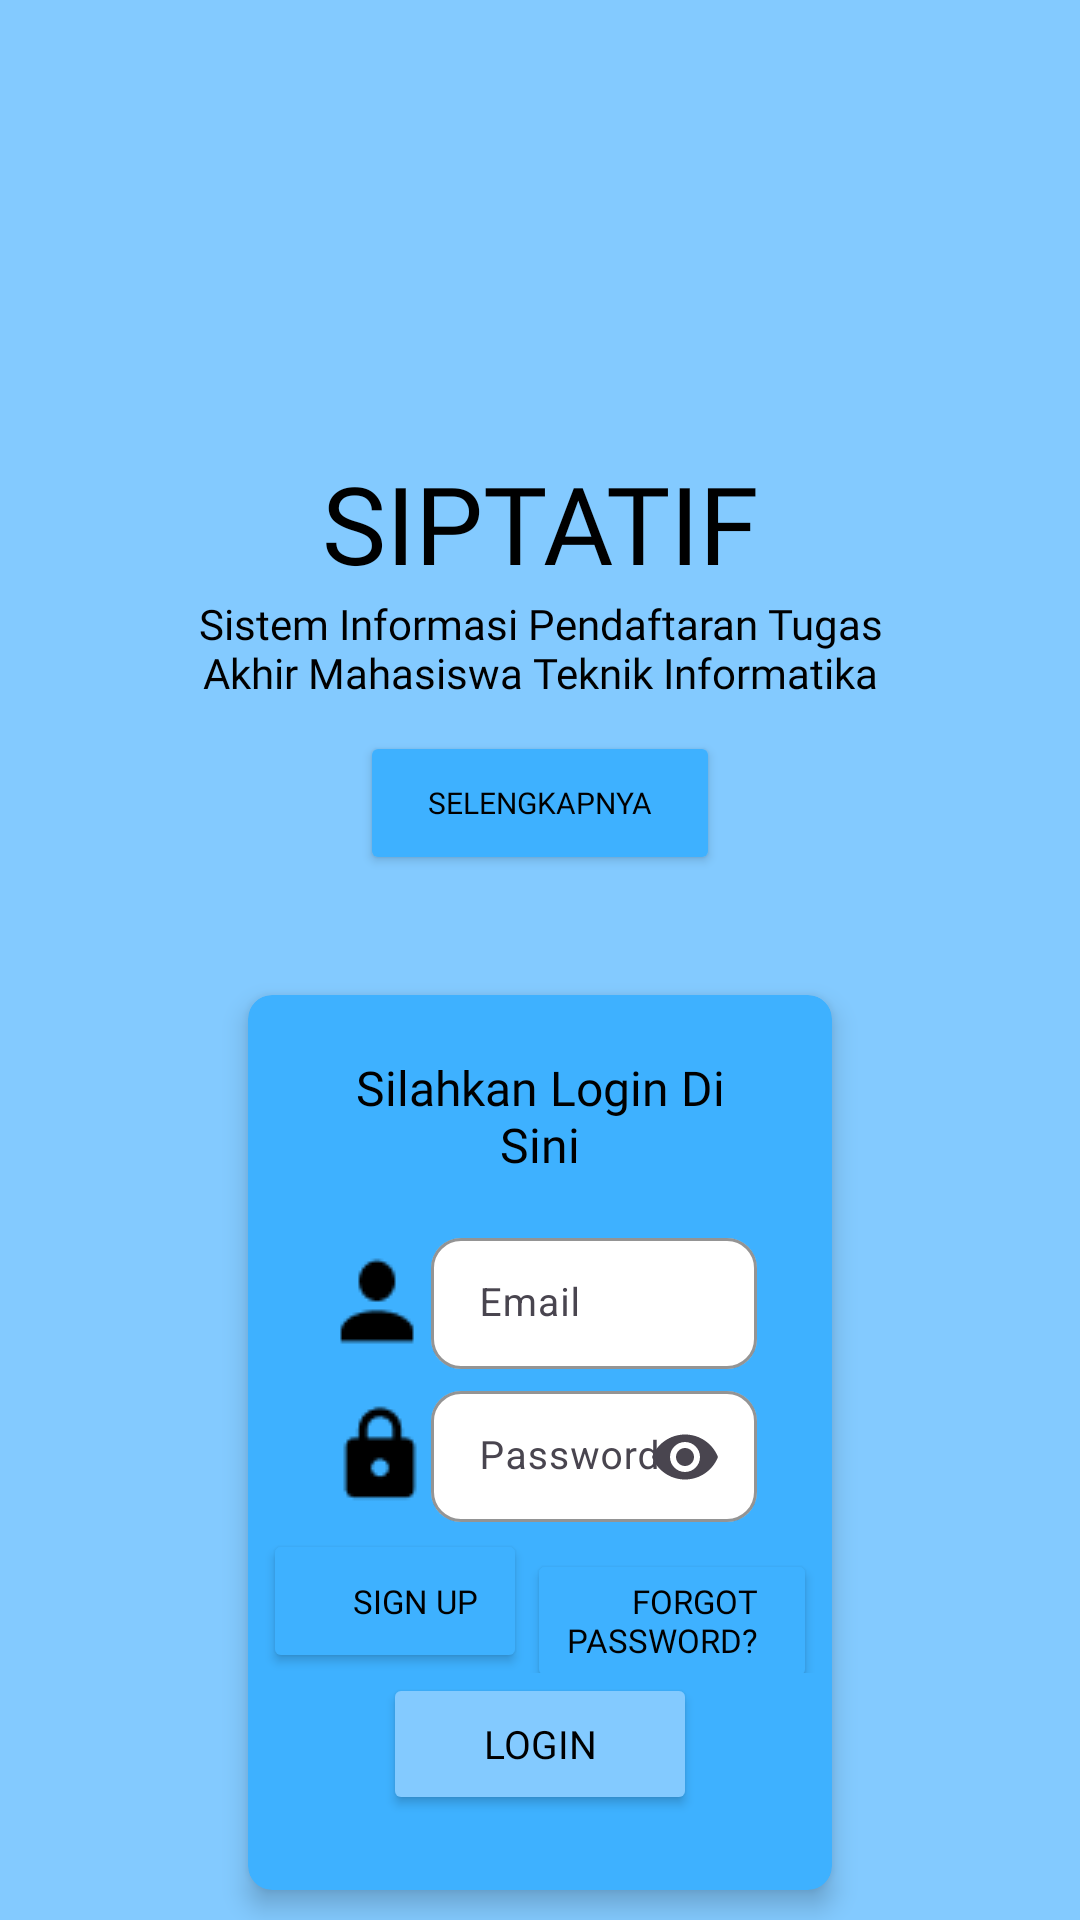

Screen size 1080*1920. Icon name, then its center in pixels as point (x, y):
lock: point (380, 1452)
